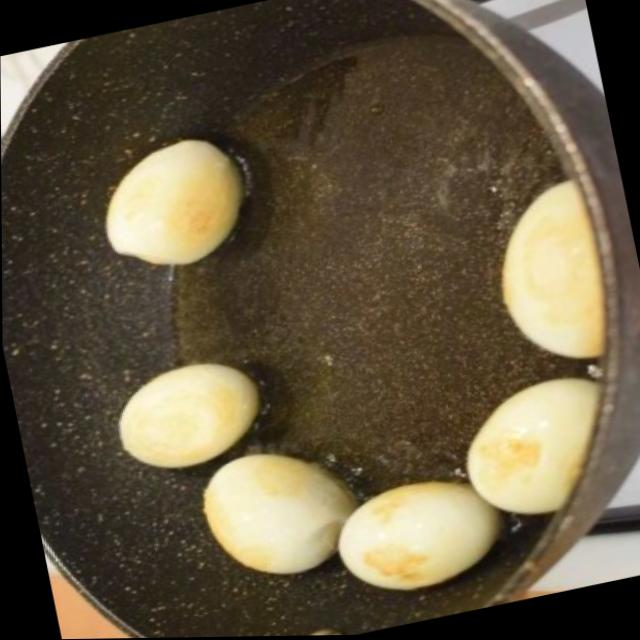EGG: (1, 53, 640, 639)
